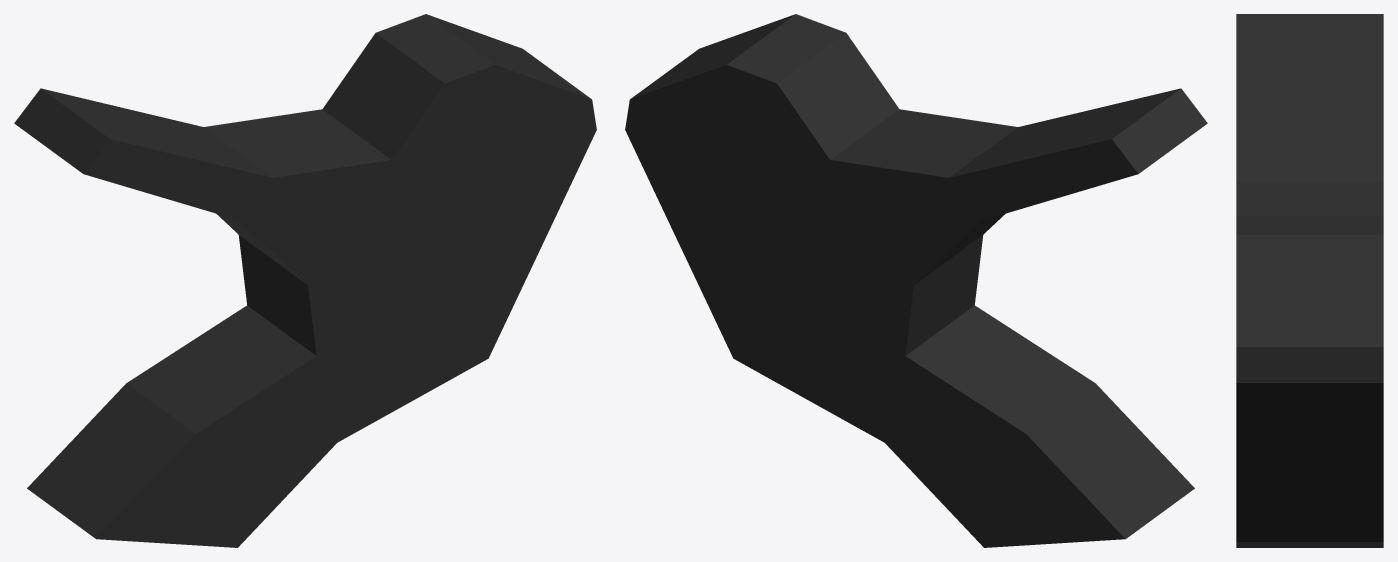
Rendered from Pistol5_05_4.fbx.
The picture shows the model from 3 angles, left to right: view 1: azimuth 30°, elevation 25°; view 2: azimuth 150°, elevation 25°; view 3: azimuth 270°, elevation 25°; orthographic projection. The views are drawn at different scales.
Parts seen in each view (by area): view 1: Pistol5_05_4; view 2: Pistol5_05_4; view 3: Pistol5_05_4.
Boxes of the visible parts, <box> form: Pistol5_05_4: <box>14,14,596,547</box>; Pistol5_05_4: <box>625,14,1207,547</box>; Pistol5_05_4: <box>1236,14,1383,547</box>.
Size of the model in its own units: 0.0403 by 0.033 by 0.00942.
